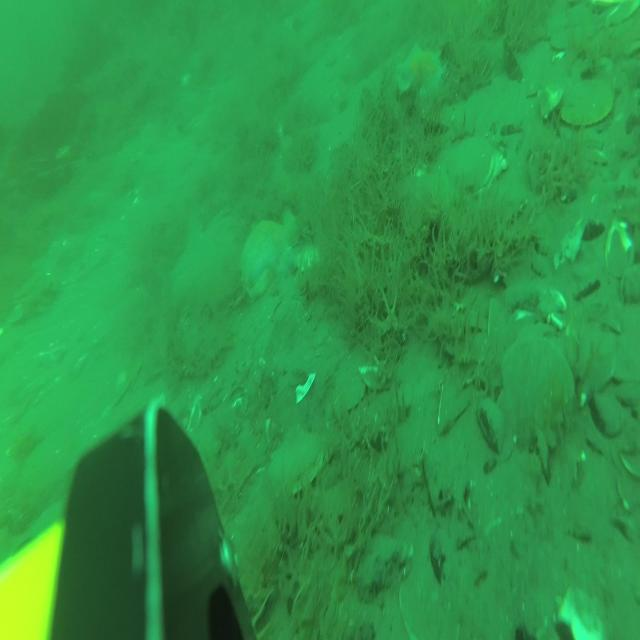scallop: (498, 338, 572, 447), (268, 432, 325, 489), (448, 129, 498, 190), (562, 72, 612, 124)
starfish: (242, 216, 298, 300), (396, 42, 446, 101)
